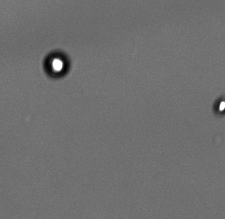Living Cell: (44, 51, 70, 79)
